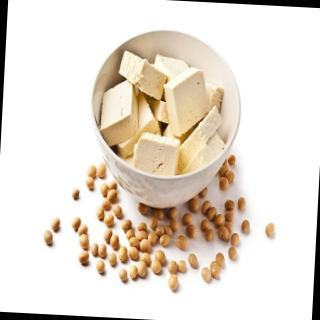Tahu: (81, 26, 251, 199)
